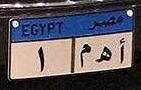1: (36, 45, 47, 73)
alif: (117, 36, 126, 67)
haa: (94, 45, 113, 65)
meem: (78, 43, 92, 70)
